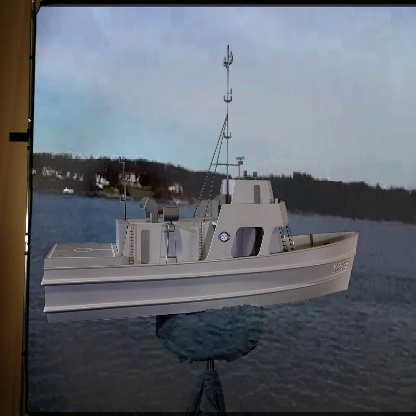YP689: (42, 43, 359, 330)
